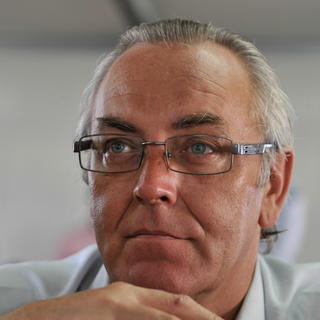eye: (99, 136, 139, 160), (176, 139, 221, 160)
